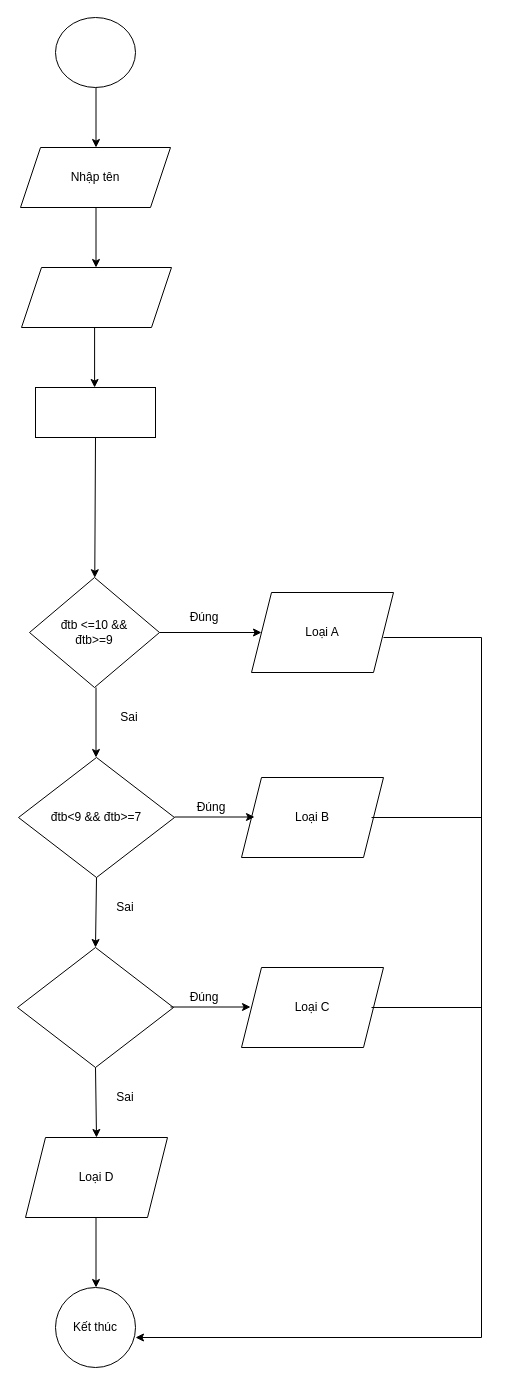
This 507x1385 diagram has some shape labels left out. Here are the shapes that lost their labels. From the top down, the box of each, then its label:
(54, 16, 136, 88): Bắt đầu
(20, 266, 172, 328): Nhập điểm toán, lý, hóa
(34, 386, 156, 438): đtb= (toán+lý+hóa)/3
(16, 946, 174, 1068): đtb<7 && đtb>=5
